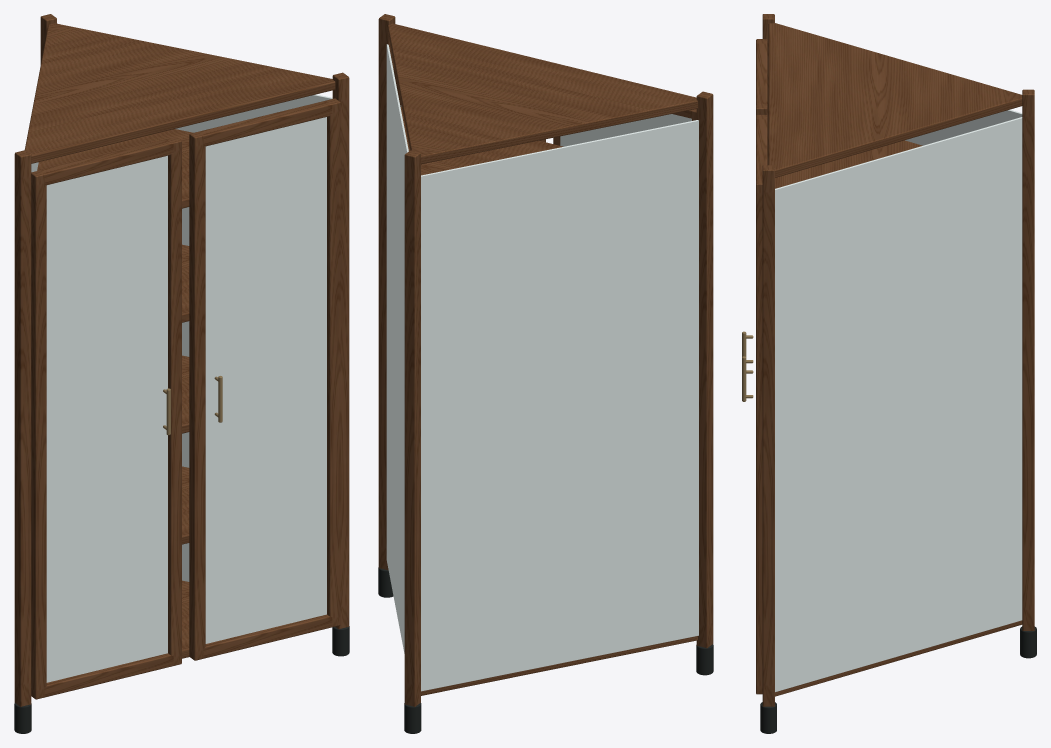
The model's file is angle-80-corner-display-cabinet.glb.
3 views of the same model, side by side, from view 1: azimuth 30°, elevation 25°; view 2: azimuth 150°, elevation 25°; view 3: azimuth 270°, elevation 25° (orthographic). The views are drawn at different scales.
Visible parts, largest first — view 1: Glass door 0 | inset panel, Glass door 1 | inset panel, Triangular display shelf.005, Corner | upright, Glass door 1 | stile, Glass door 0 | stile, Glass door 1 | stile.001, Glass door 0 | stile.001, Corner | upright.001, Side | clear glazing.001, Glass door 1 | rail.001, Glass door 0 | rail.001 (+7 smaller); view 2: Side | clear glazing, Triangular display shelf.005, Side | clear glazing.001, Corner | upright.002, Corner | upright, Corner | upright.001, Triangular display shelf.004, Glass door 0 | inset panel, Triangular display shelf; view 3: Side | clear glazing.001, Triangular display shelf.005, Corner | upright.001, Corner | upright.002, Glass door 1 | stile.001, Triangular display shelf.004, Triangular display shelf, Side | clear glazing, Glass door 0 | rail.001, Glass door 1 | rail.001, Corner | upright.
Boxes of the visible parts, bbox=[...] form: Glass door 0 | inset panel: bbox=[46, 155, 167, 682]; Glass door 1 | inset panel: bbox=[205, 117, 326, 643]; Triangular display shelf.005: bbox=[24, 23, 335, 163]; Corner | upright: bbox=[14, 150, 31, 706]; Glass door 1 | stile: bbox=[189, 131, 205, 660]; Glass door 0 | stile: bbox=[31, 170, 46, 699]; Glass door 1 | stile.001: bbox=[326, 98, 340, 627]; Glass door 0 | stile.001: bbox=[166, 137, 181, 665]; Corner | upright.001: bbox=[332, 72, 349, 629]; Side | clear glazing.001: bbox=[175, 94, 332, 581]; Glass door 1 | rail.001: bbox=[200, 100, 332, 146]; Glass door 0 | rail.001: bbox=[41, 139, 173, 185]; Side | clear glazing: bbox=[421, 120, 698, 691]; Triangular display shelf.005: bbox=[387, 23, 697, 164]; Side | clear glazing.001: bbox=[386, 44, 408, 653]; Corner | upright.002: bbox=[404, 150, 420, 706]; Corner | upright: bbox=[696, 91, 713, 648]; Corner | upright.001: bbox=[378, 14, 395, 570]; Triangular display shelf.004: bbox=[400, 107, 563, 175]; Glass door 0 | inset panel: bbox=[560, 114, 691, 146]; Triangular display shelf: bbox=[421, 636, 697, 695]; Side | clear glazing.001: bbox=[775, 117, 1022, 692]; Triangular display shelf.005: bbox=[768, 23, 1022, 177]; Corner | upright.001: bbox=[762, 165, 774, 706]; Corner | upright.002: bbox=[1022, 89, 1034, 630]; Glass door 1 | stile.001: bbox=[756, 179, 762, 694]; Triangular display shelf.004: bbox=[775, 140, 922, 188]; Triangular display shelf: bbox=[775, 620, 1022, 696]; Side | clear glazing: bbox=[905, 109, 1022, 145]; Glass door 0 | rail.001: bbox=[756, 43, 767, 104]; Glass door 1 | rail.001: bbox=[756, 119, 767, 180]; Corner | upright: bbox=[762, 14, 774, 165].
Size of the model in its own units: 1.07 by 1.77 by 0.84.
Materials: 5 (1 with a texture image).
